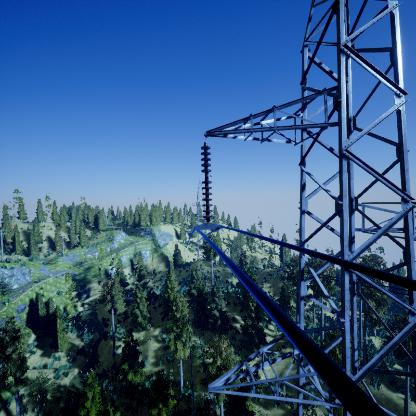insulator: (199, 143, 216, 222)
